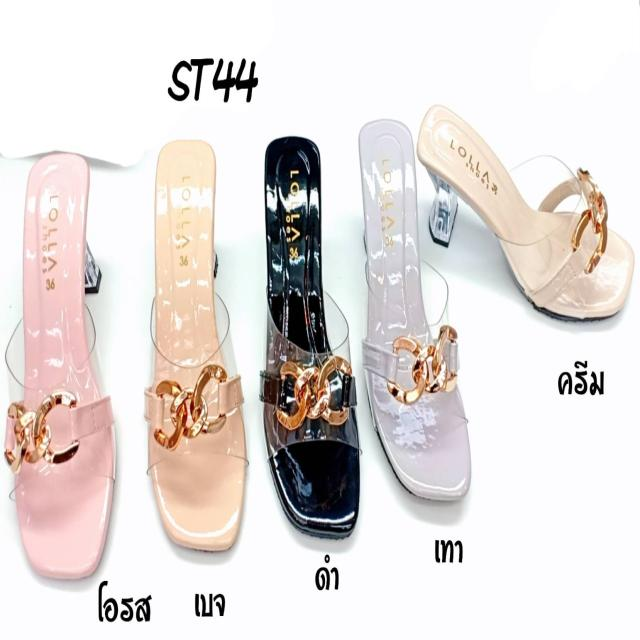bej: (149, 144, 249, 550)
black: (260, 140, 360, 540)
cream: (419, 110, 635, 314)
grey: (359, 125, 470, 510)
orot: (18, 157, 108, 580)
